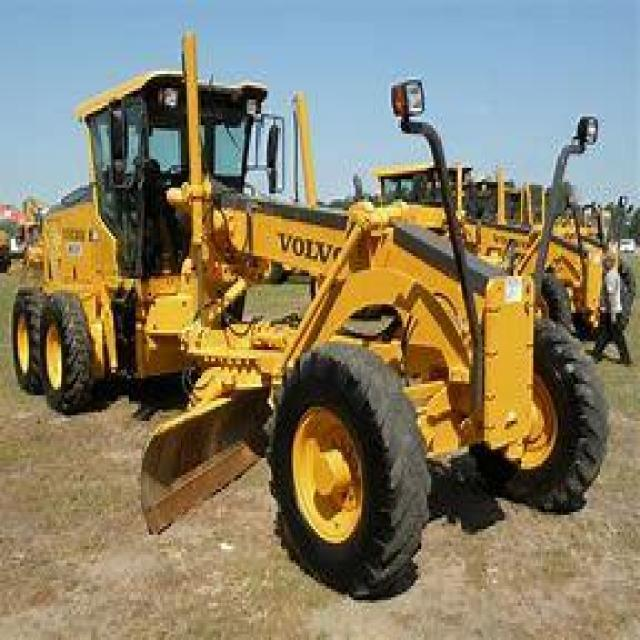Grader: (9, 54, 613, 603)
